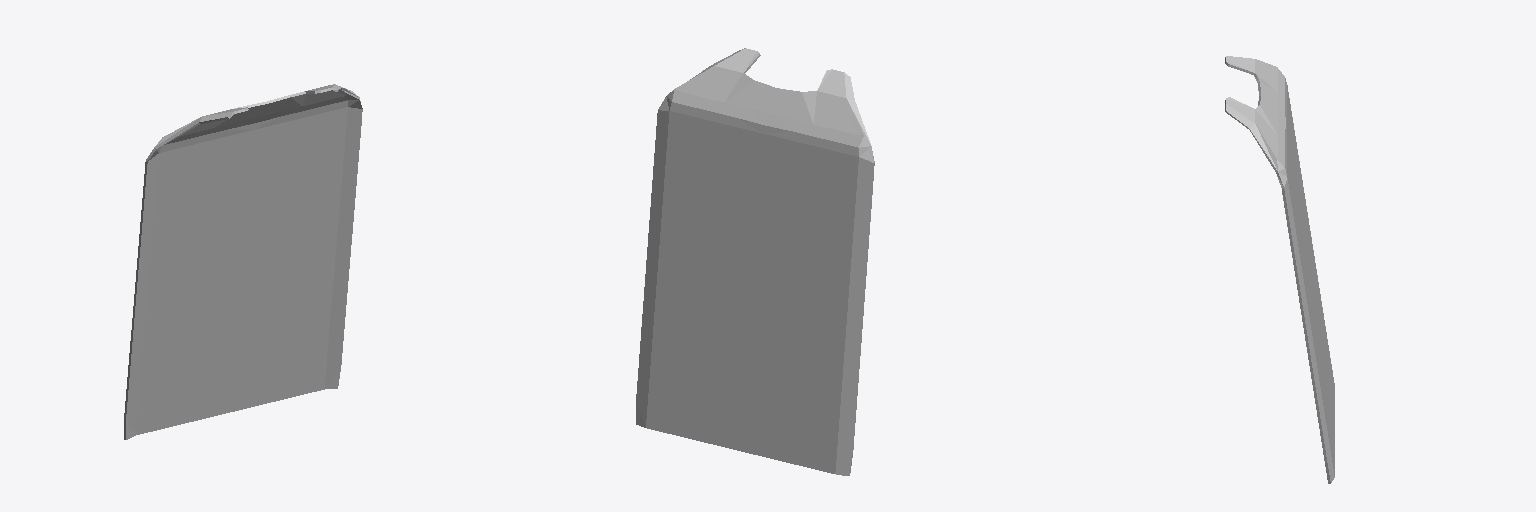
Rendered from CLOAK.obj.
The picture shows the model from 3 angles: view 1: azimuth 30°, elevation 25°; view 2: azimuth 150°, elevation 25°; view 3: azimuth 270°, elevation 25°; orthographic projection.
Visible parts, largest first — view 1: Plane_CLOAK; view 2: Plane_CLOAK; view 3: Plane_CLOAK.
Boxes of the visible parts, x1,y1,x2,y2 form: Plane_CLOAK: [124, 84, 362, 439]; Plane_CLOAK: [636, 48, 874, 475]; Plane_CLOAK: [1225, 56, 1334, 483].
Size of the model in its own units: 1.77 by 2.76 by 0.7774.